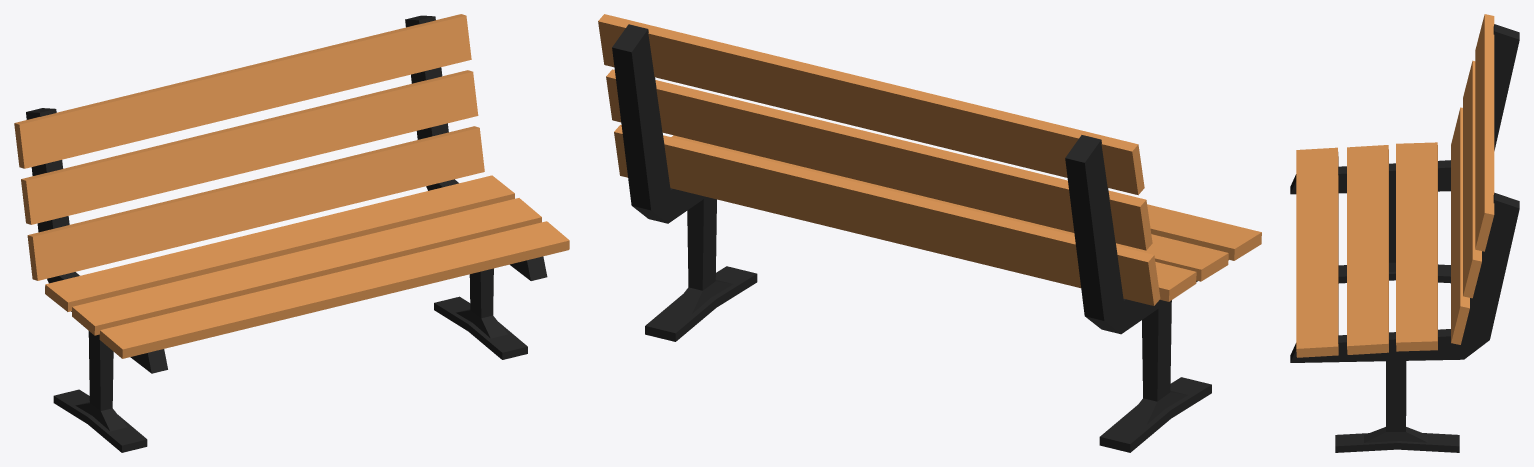
The model's file is Bench.fbx.
3 views of the same model, side by side, from view 1: azimuth 30°, elevation 25°; view 2: azimuth 150°, elevation 25°; view 3: azimuth 270°, elevation 25° (orthographic). The views are drawn at different scales.
Visible parts, largest first — view 1: bench; view 2: bench; view 3: bench.
Boxes of the visible parts, x1,y1,x2,y2 form: bench: (14,14,569,452); bench: (598,14,1261,452); bench: (1290,14,1519,452).
Size of the model in its own units: 646 by 380 by 315.
